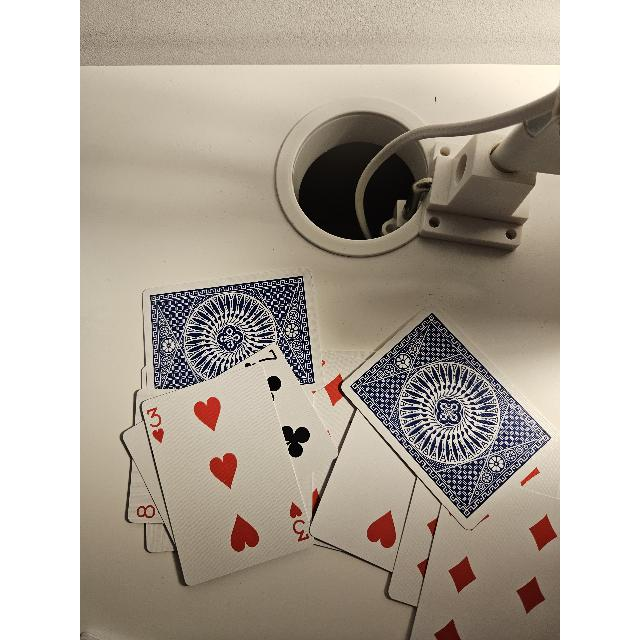3H: (144, 405, 168, 445), (289, 500, 309, 544)
7C: (243, 346, 280, 374)
